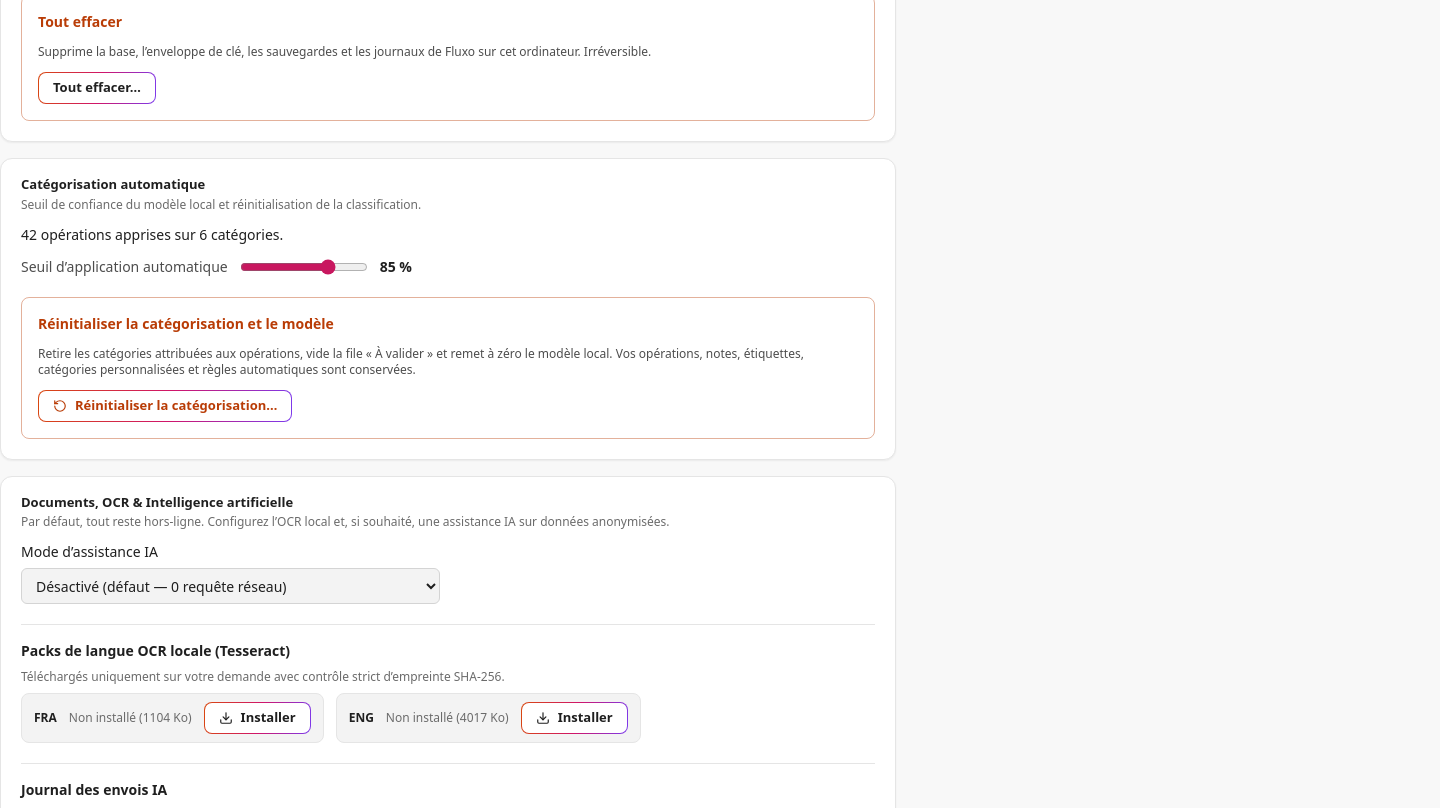
Test: SettingsPage › réinitialise la catégorisation et le modèle après confirmation
(page scrolled)
Expected: the text "42 opérations apprises sur 6 catégories." is shown, [21,224,283,244]
Click the button "Réinitialiser la catégorisation…": (165, 406) [38,390,292,422]
(page scrolled)
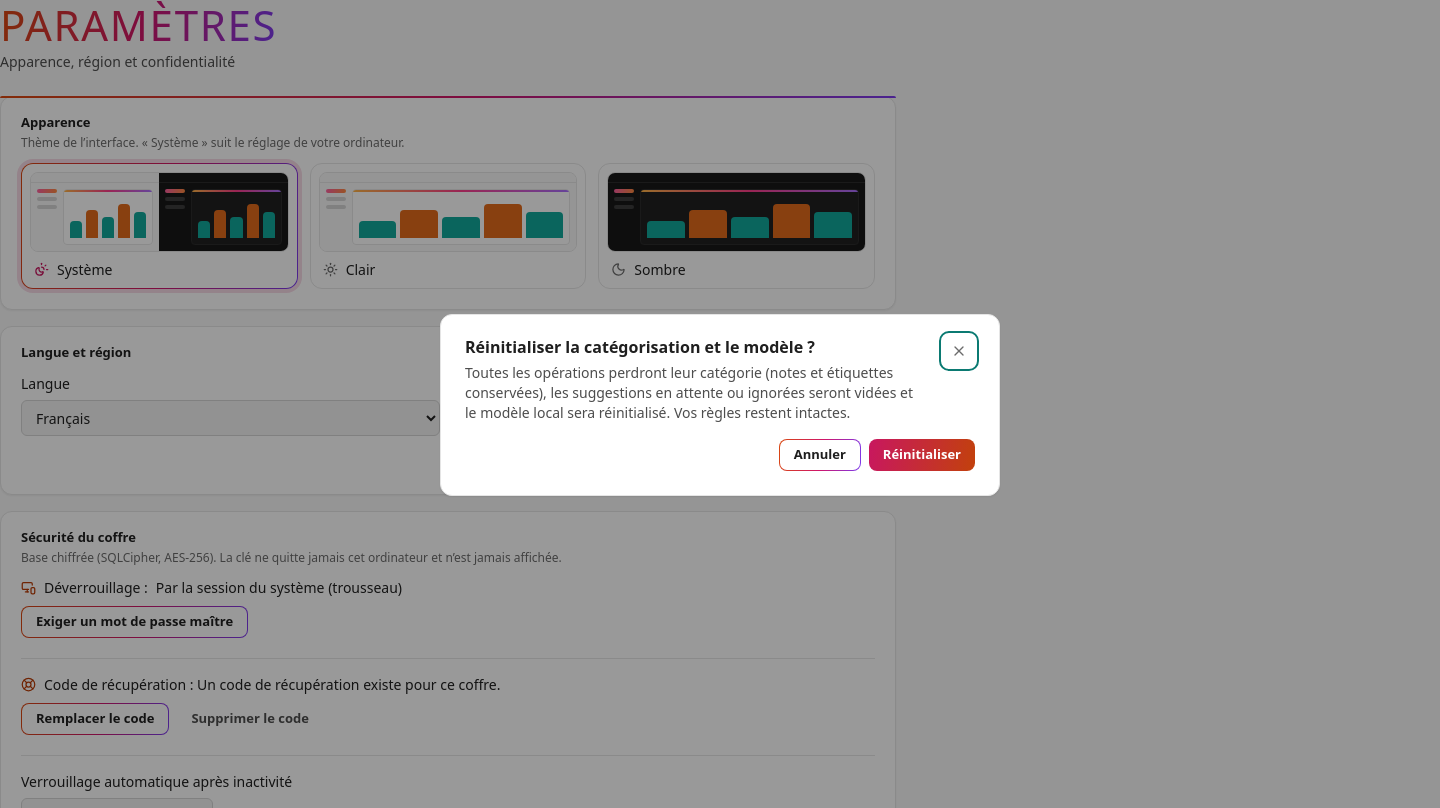
Click the button "Réinitialiser": (922, 455) [869,439,975,471]
(page scrolled)
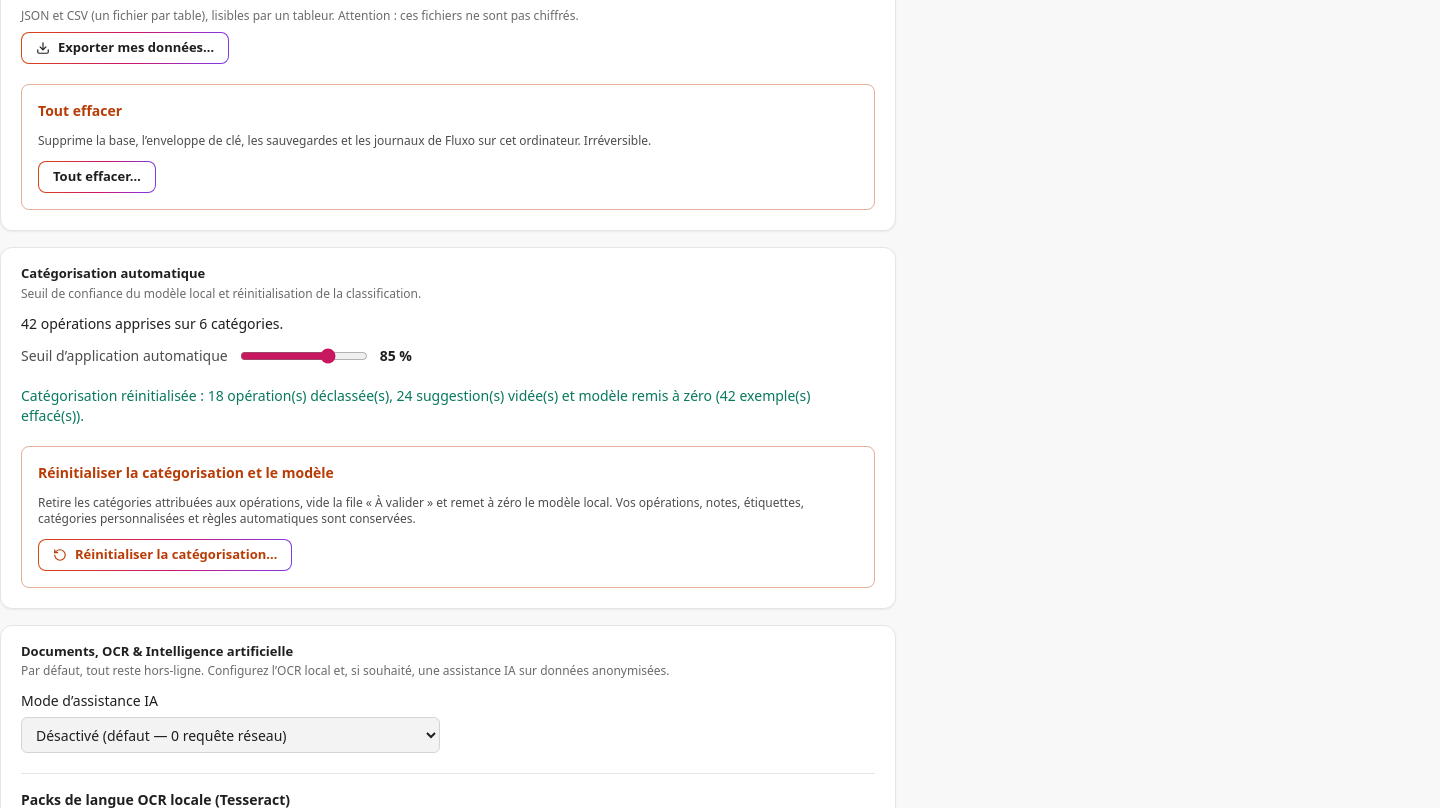
Now the message shows "18 opération(s) déclassée(s), 24 suggestion(s) vidée(s) et modèle remis à zéro (42 exemple(s) effacé(s)).", box [21,386,810,424]
